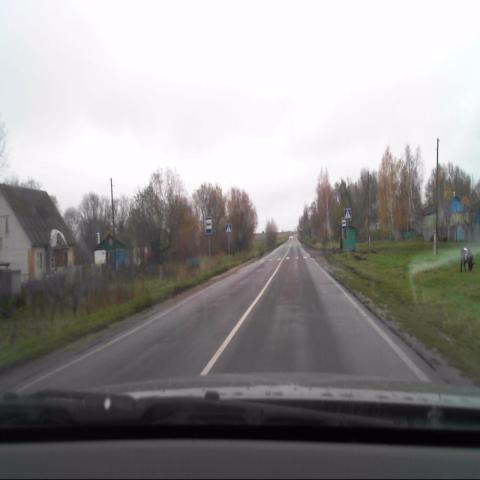5_16: (206, 218, 212, 234)
5_19_1: (344, 208, 352, 219), (226, 223, 232, 234)
